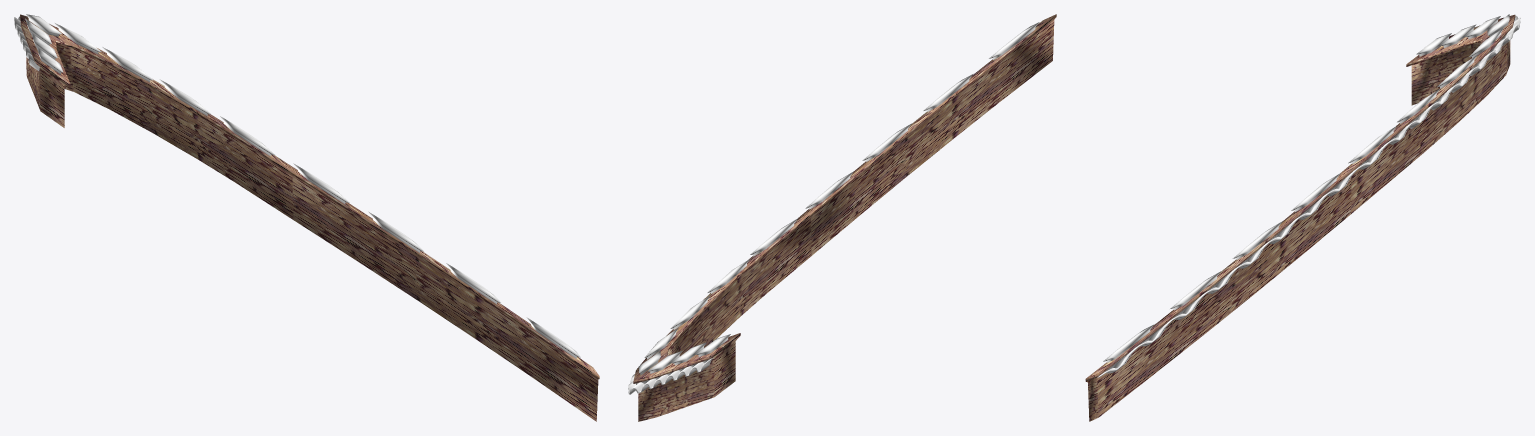
The model's file is monestery_wall_b.glb.
3 views of the same model, side by side, from view 1: azimuth 30°, elevation 25°; view 2: azimuth 150°, elevation 25°; view 3: azimuth 330°, elevation 25° (orthographic). The views are drawn at different scales.
Parts seen in each view (by area): view 1: brick_wall_06.jpg__, city_ground.jpg__; view 2: brick_wall_06.jpg__, city_ground.jpg__, stktex_generic_WoodA.png__; view 3: brick_wall_06.jpg__, city_ground.jpg__, stktex_generic_WoodA.png__.
Boxes of the visible parts, x1,y1,x2,y2 form: brick_wall_06.jpg__: (20,14,599,421); city_ground.jpg__: (25,14,580,358); brick_wall_06.jpg__: (633,14,1056,421); city_ground.jpg__: (638,22,1039,375); stktex_generic_WoodA.png__: (628,357,713,394); brick_wall_06.jpg__: (1085,14,1515,421); city_ground.jpg__: (1103,14,1509,362); stktex_generic_WoodA.png__: (1097,15,1520,377).
Bounding box in the file's own units: 4.71 × 2.76 × 43.54.
3 materials, 1 textured.
